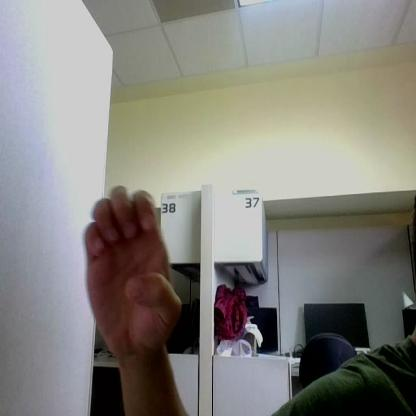E: (84, 184, 180, 354)
